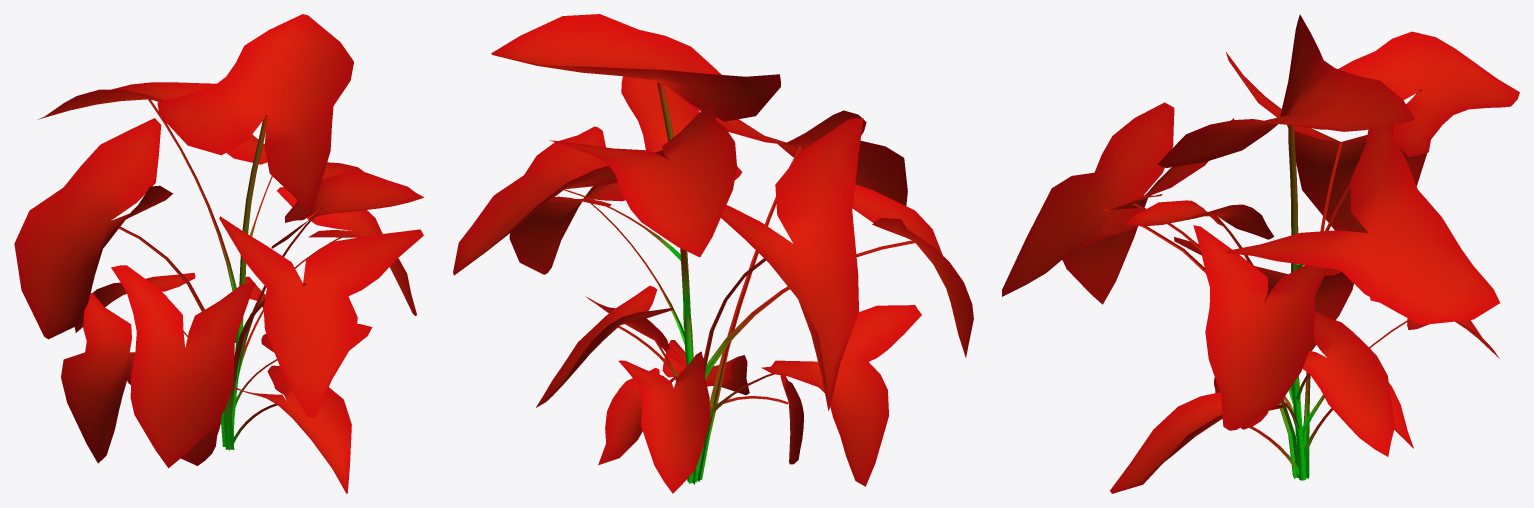
File: PlantFern01.fbx
3 views of the same model, side by side, from view 1: azimuth 30°, elevation 25°; view 2: azimuth 150°, elevation 25°; view 3: azimuth 270°, elevation 25° (orthographic). The views are drawn at different scales.
Visible parts, largest first — view 1: _31d7_Var1_LOD0; view 2: _31d7_Var1_LOD0; view 3: _31d7_Var1_LOD0.
Part boxes in pixels (box(x1,y1,x2,y2)): _31d7_Var1_LOD0: box(14, 14, 424, 493); _31d7_Var1_LOD0: box(453, 14, 973, 493); _31d7_Var1_LOD0: box(1002, 14, 1519, 493).
Size of the model in its own units: 43.78 by 47.48 by 51.9.
